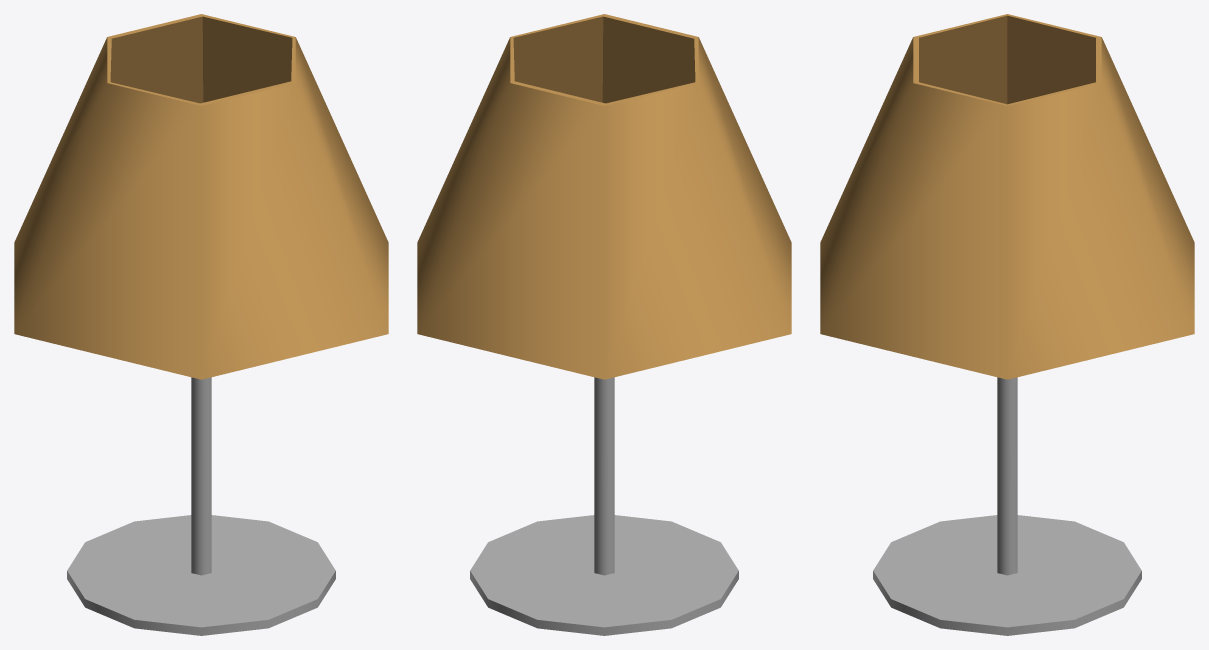
The model's file is Bedside-lamp_Final.FBX.
The picture shows the model from 3 angles, left to right: view 1: azimuth 30°, elevation 25°; view 2: azimuth 150°, elevation 25°; view 3: azimuth 270°, elevation 25°; orthographic projection.
Visible parts, largest first — view 1: bedside lamp; view 2: bedside lamp; view 3: bedside lamp.
Part boxes in pixels (x1,y1,x2,y2): bedside lamp: (14,14,388,635); bedside lamp: (417,14,791,635); bedside lamp: (820,14,1194,635).
Bounding box in the file's own units: 26.29 × 34.83 × 22.77.
1 material, 1 textured.
